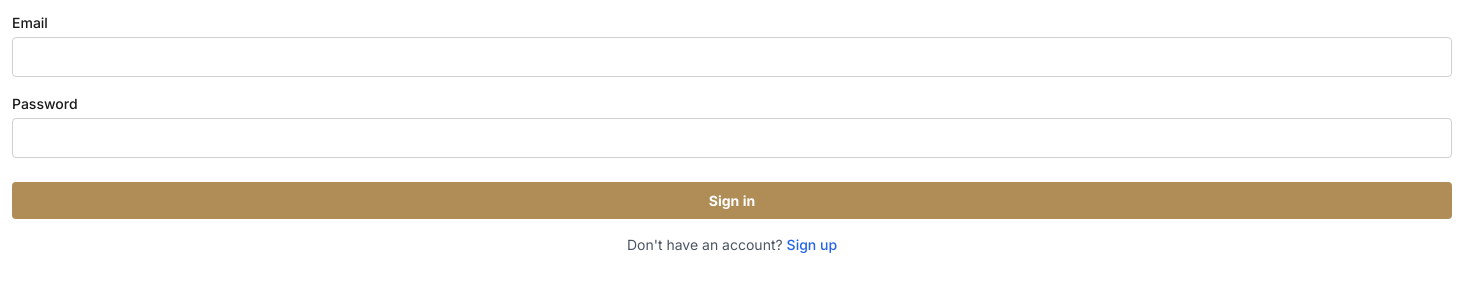
Test case: LoginForm › shows invalid email error on input change
Type "invalid-email" into the field labelled "Email".
click(732, 57); type("invalid-email")  # box top-left (12, 37), bottom-right (1452, 77)
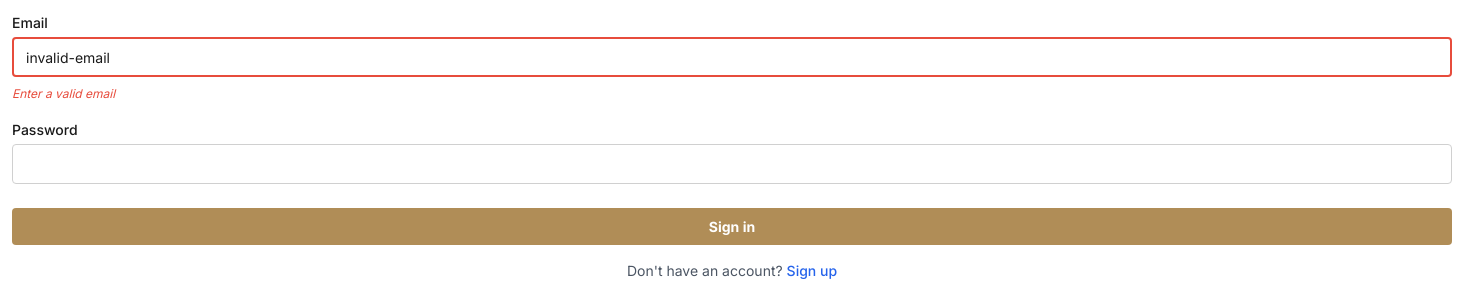
Result: the text "Enter a valid email" is shown at top-left (12, 86), bottom-right (115, 101)
